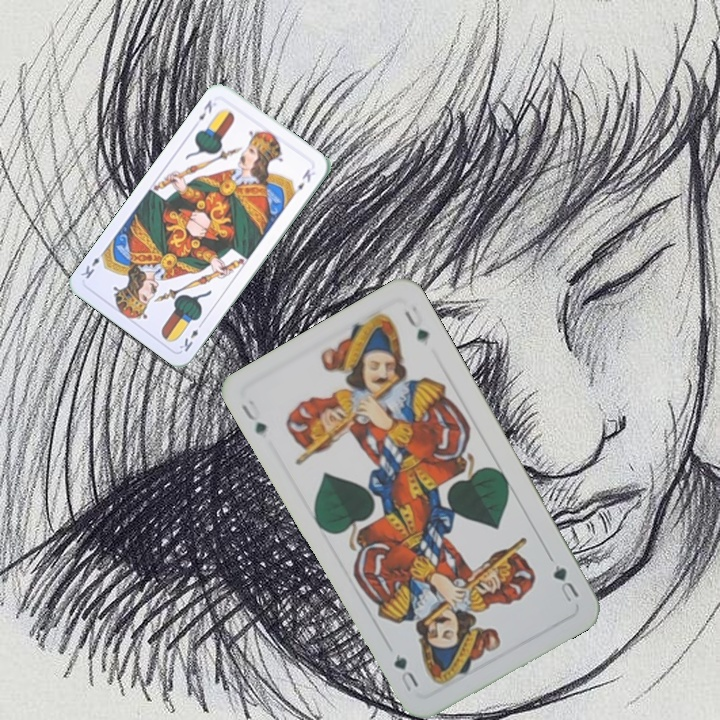EK: (175, 318, 206, 354), (194, 96, 215, 123)
GU: (549, 560, 582, 605), (237, 395, 270, 439)
